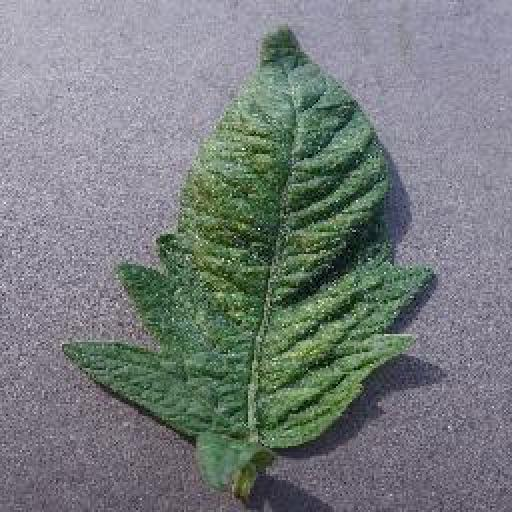disease_tomato: (60, 26, 432, 454)
